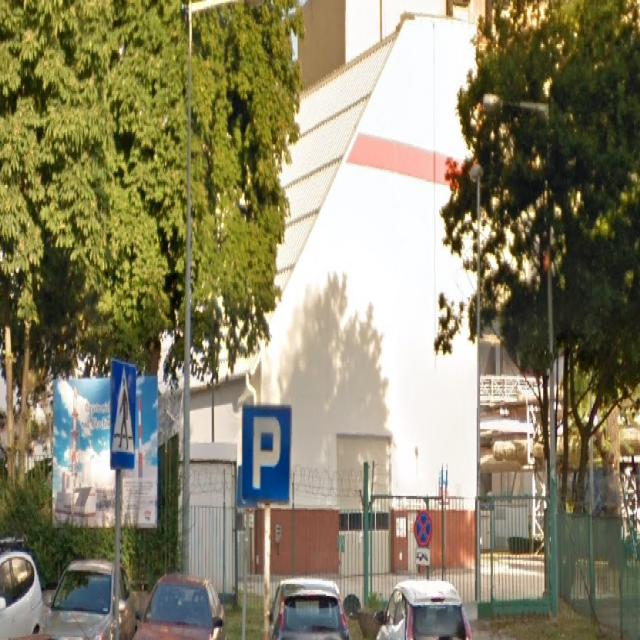Przejscie dla pieszych: (110, 360, 136, 470)
Zakaz zatrzymywania sie: (414, 510, 432, 546)
